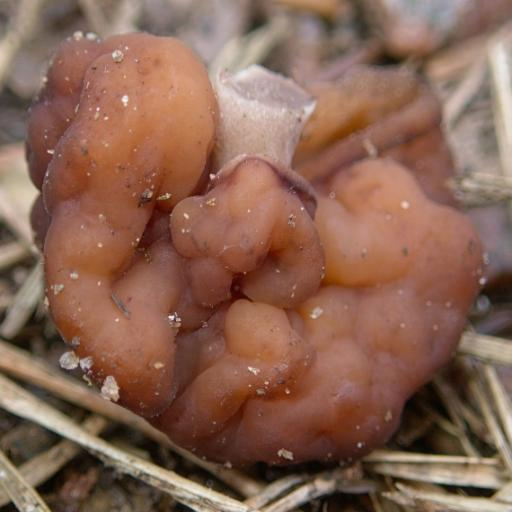False Morel: (0, 20, 507, 490)
